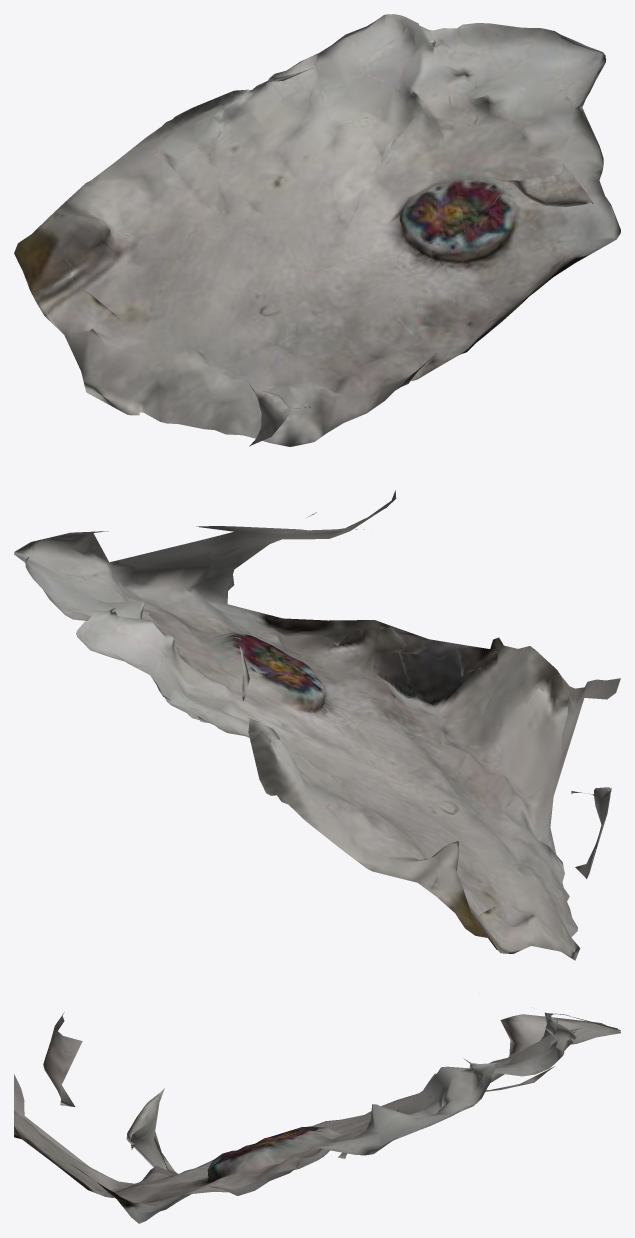
The model's file is hall.glb.
3 renders of one model, top to bottom at view 1: azimuth 30°, elevation 25°; view 2: azimuth 150°, elevation 25°; view 3: azimuth 270°, elevation 25°, orthographic. The views are drawn at different scales.
Size of the model in its own units: 1.15 by 0.5473 by 0.9814.
1 material, 1 textured.
